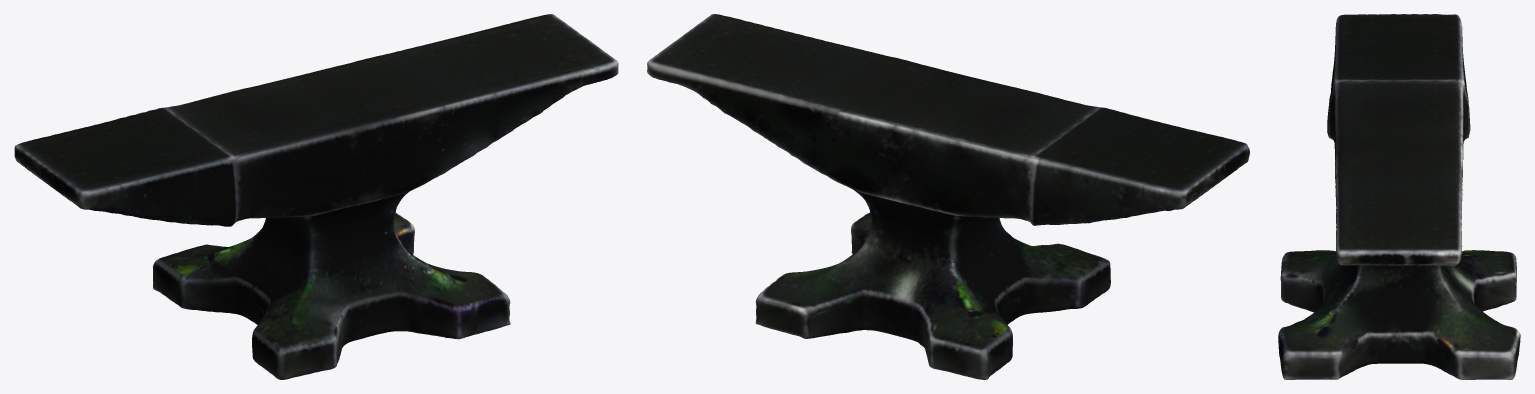
The model's file is Anvil2.fbx.
3 views of the same model, side by side, from view 1: azimuth 30°, elevation 25°; view 2: azimuth 150°, elevation 25°; view 3: azimuth 270°, elevation 25° (orthographic). The views are drawn at different scales.
Visible parts, largest first — view 1: geometry_0; view 2: geometry_0; view 3: geometry_0.
Boxes of the visible parts, <box> form: geometry_0: <box>14,14,618,379</box>; geometry_0: <box>647,14,1249,379</box>; geometry_0: <box>1278,14,1520,379</box>.
Bounding box in the file's own units: 101 × 37.96 × 43.08.
Materials: 1 (1 with a texture image).
